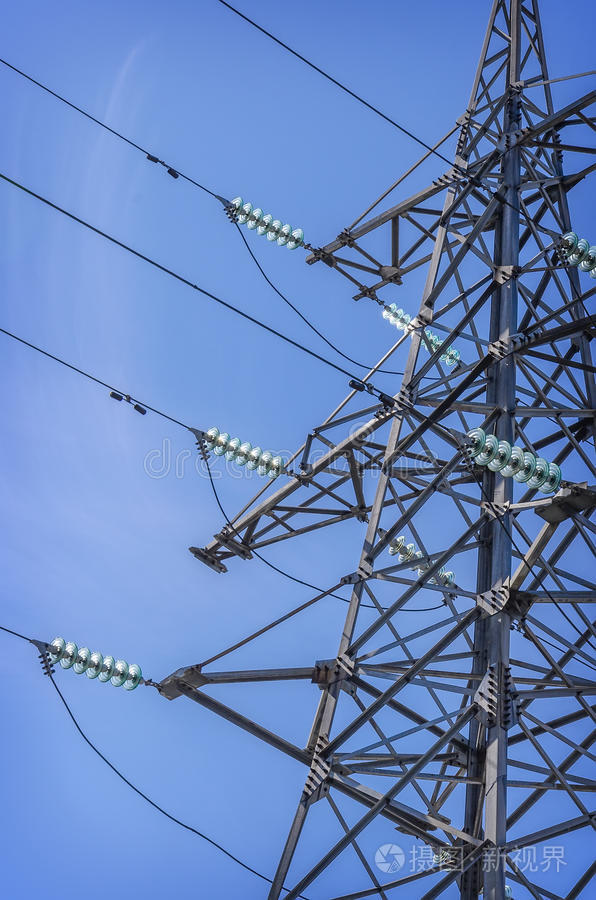insulator: (461, 428, 562, 490), (44, 641, 143, 690), (383, 301, 460, 364), (204, 429, 282, 477), (229, 200, 306, 248), (389, 538, 456, 586), (558, 233, 595, 275)
